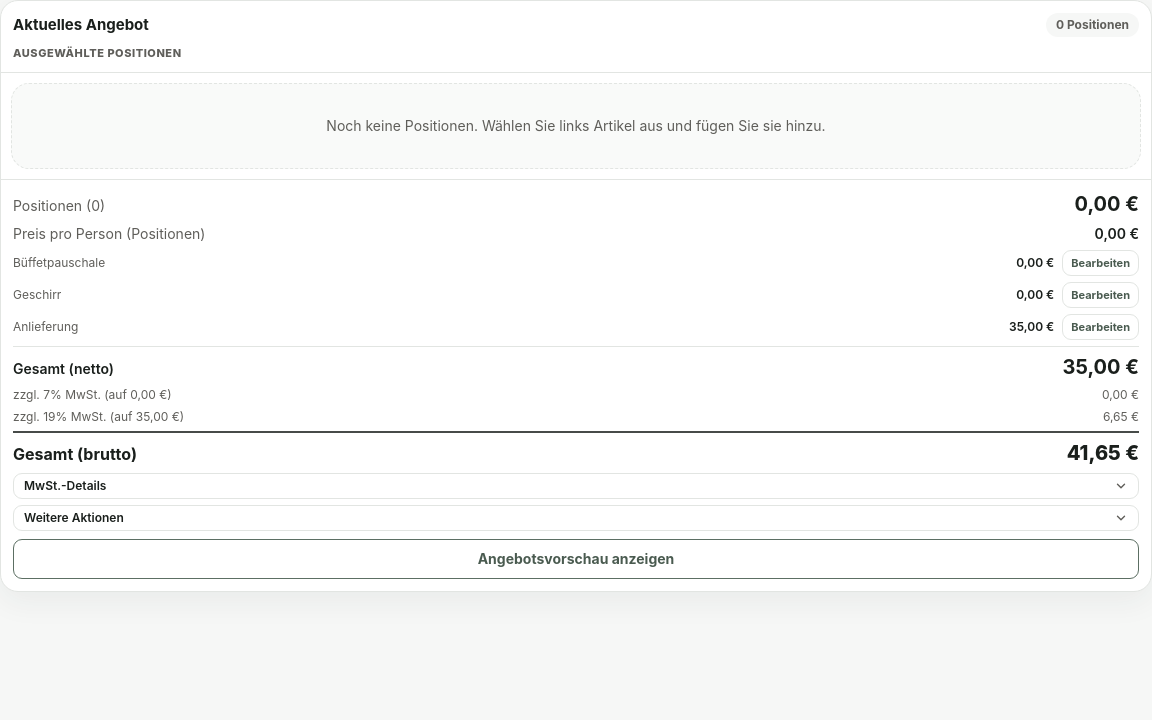
Test: OfferSummary — secondary actions disclosure › reveals Entwurf speichern and the export actions when expanded
Click the heading "Weitere Aktionen" at (74, 517), box [14,506,1138,530]
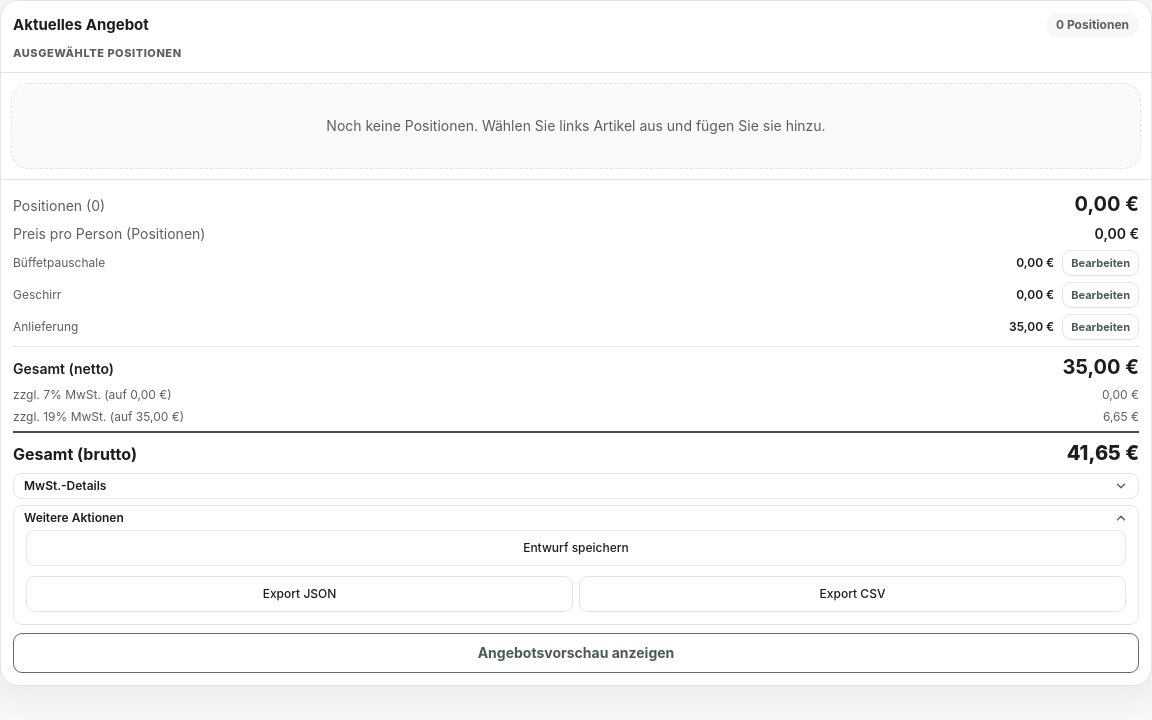
Now the button "Entwurf speichern" is shown, box [26,530,1126,566]
Now the button "Export JSON" is shown, box [26,576,573,612]
Now the button "Export CSV" is shown, box [579,576,1126,612]
